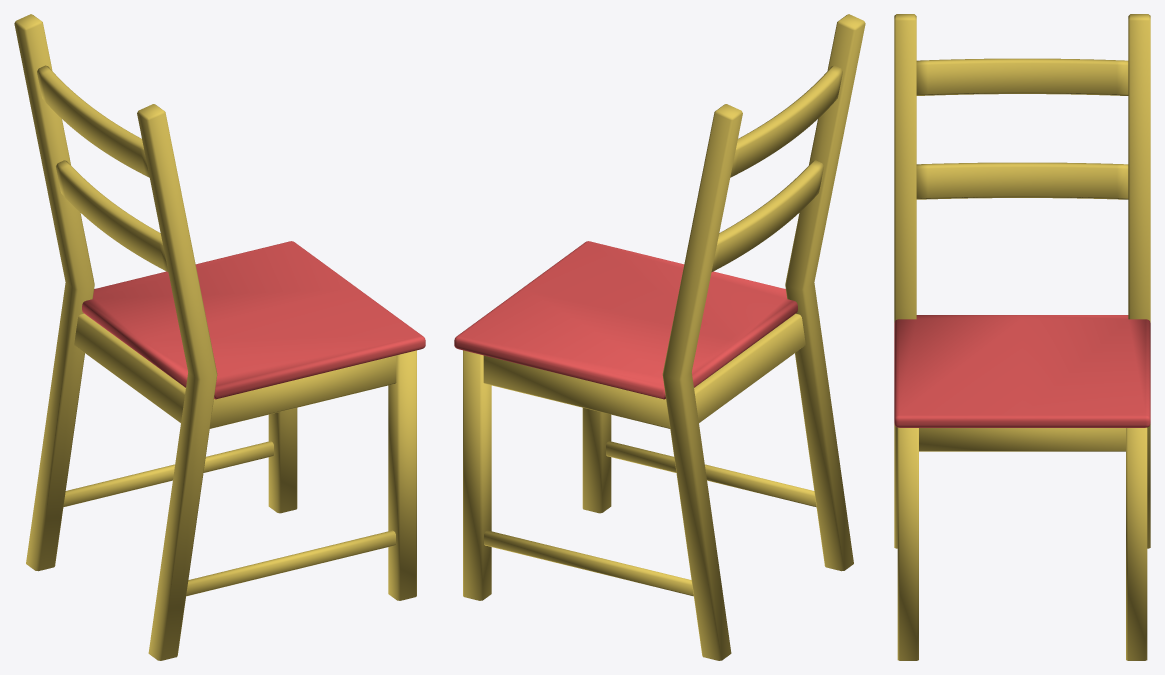
The picture shows the model from 3 angles, left to right: view 1: azimuth 30°, elevation 25°; view 2: azimuth 150°, elevation 25°; view 3: azimuth 270°, elevation 25°; orthographic projection. The views are drawn at different scales.
Parts seen in each view (by area): view 1: Legs, Cover; view 2: Legs, Cover; view 3: Legs, Cover.
Part boxes in pixels (x1,y1,x2,y2): Legs: [14, 14, 416, 660]; Cover: [82, 241, 425, 399]; Legs: [463, 14, 865, 660]; Cover: [454, 241, 797, 399]; Legs: [894, 14, 1150, 660]; Cover: [894, 315, 1150, 427].
Size of the model in its own units: 143 by 268 by 119.
